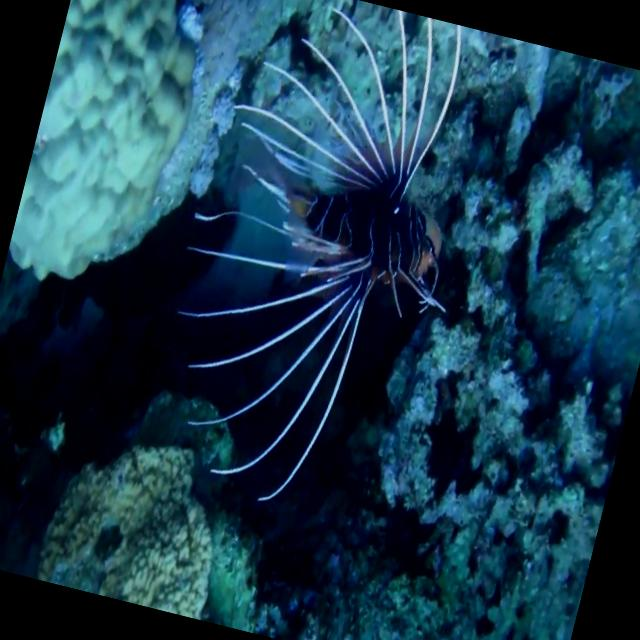Aslan Baligi: (128, 0, 514, 537)
